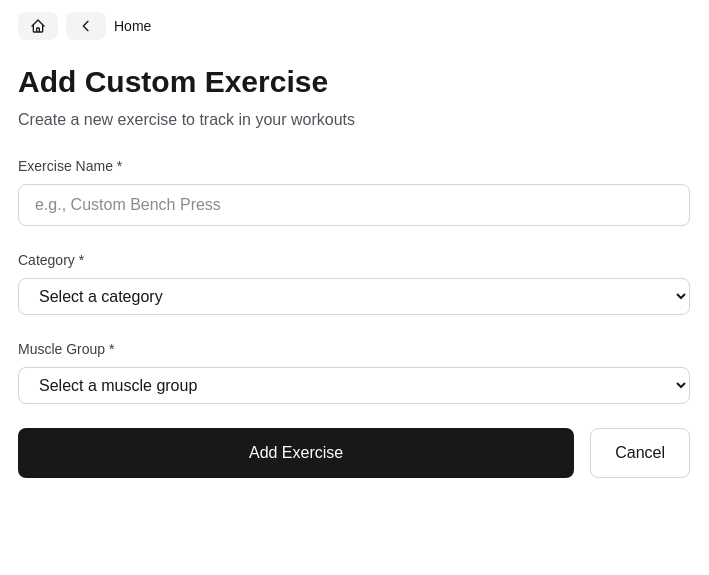
Test: AddExerciseForm › should show error message on submission failure
In the field with placeholder "e.g., Custom Bench Press": (354, 205) x1=18 y1=184 x2=690 y2=226, type "Custom Exercise"
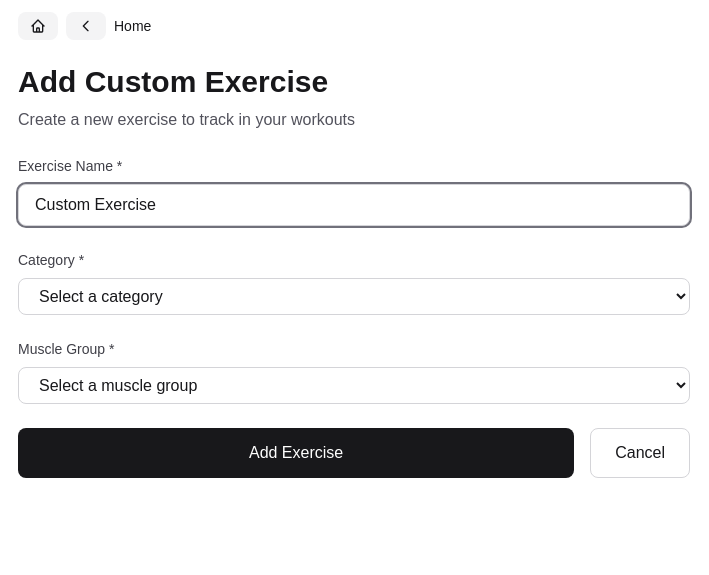
Select "Chest" in the dropdown below "Category *": (354, 296) x1=18 y1=278 x2=690 y2=315
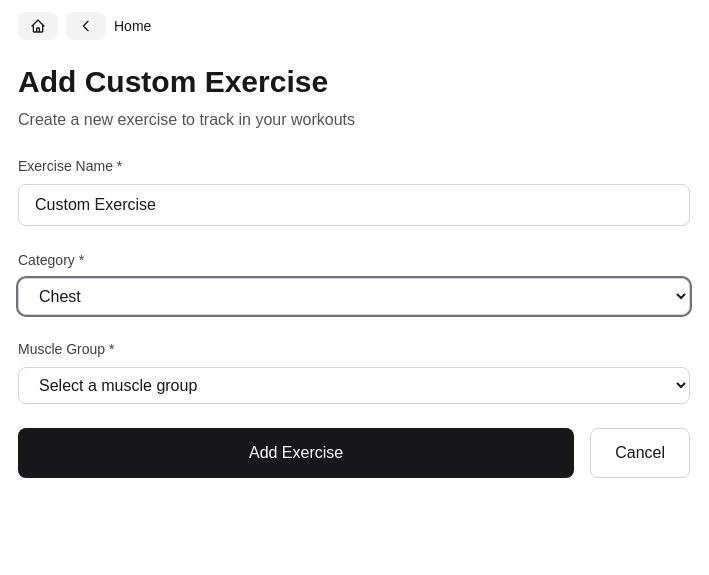
Select "Upper Body" in the dropdown below "Muscle Group *": (354, 386) x1=18 y1=367 x2=690 y2=404
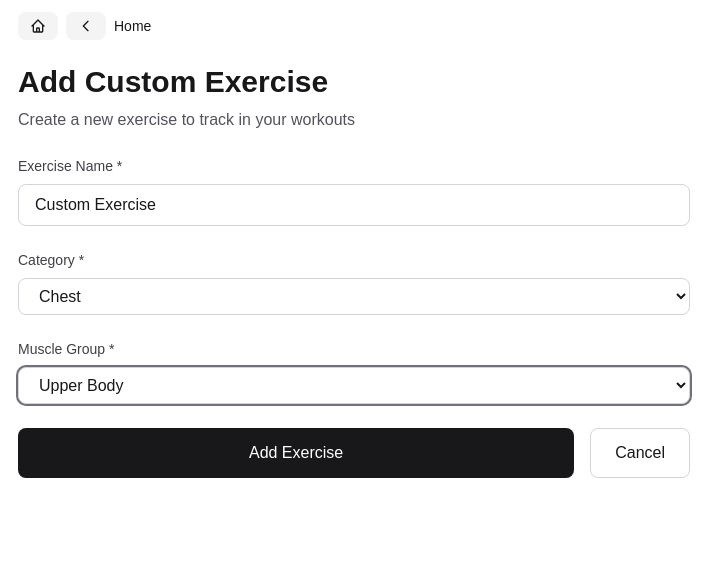
Click the button "Add Exercise": (296, 453) x1=18 y1=428 x2=574 y2=478
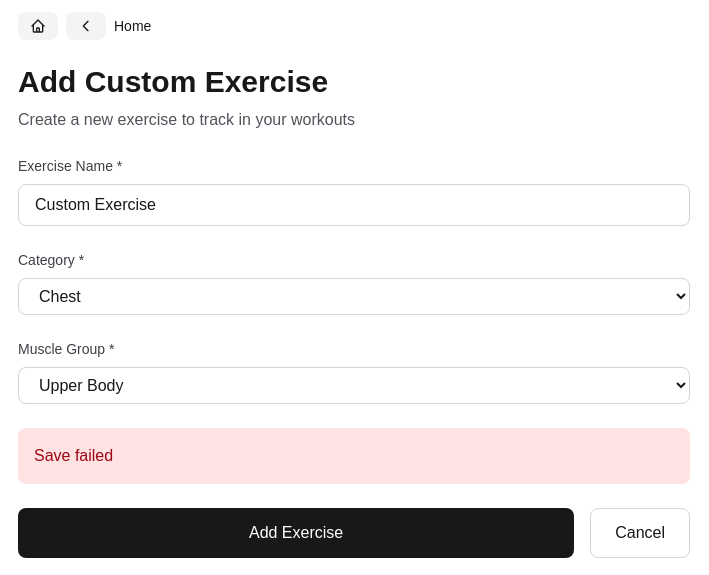
Expected: the text "Save failed" is shown, x1=18 y1=428 x2=690 y2=484
